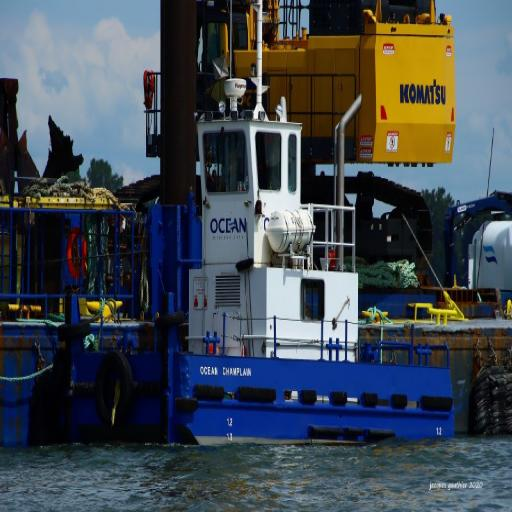tugboat: (61, 102, 461, 459)
